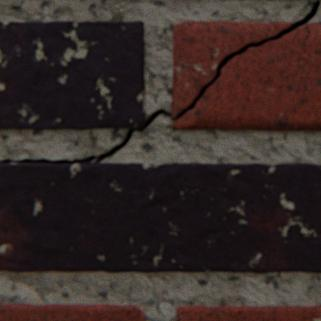brick: (0, 162, 320, 272), (0, 21, 145, 129), (0, 302, 145, 320), (177, 304, 320, 320)
broken_brick: (173, 22, 320, 130), (172, 21, 292, 116)
crack: (0, 0, 320, 162)
